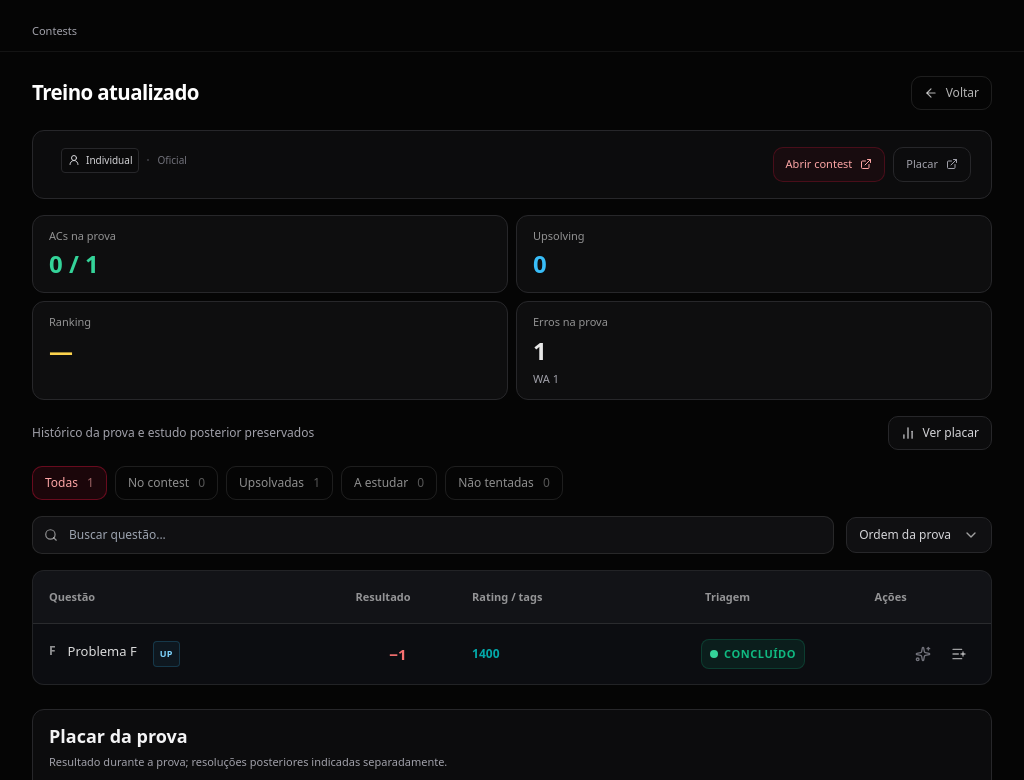
preserva o resultado da prova no mapa e na tabela depois do upsolving
The image size is (1024, 780).
Expected: the text "UP" is shown, [153, 641, 180, 667]
Expected: the column heading "Resultado" is shown, [340, 571, 456, 624]
What coordinates should you click on to do the following:
click the button "No contest 0"
I would click on:
 (167, 483)
Its box is [115, 466, 218, 500].
(page scrolled)
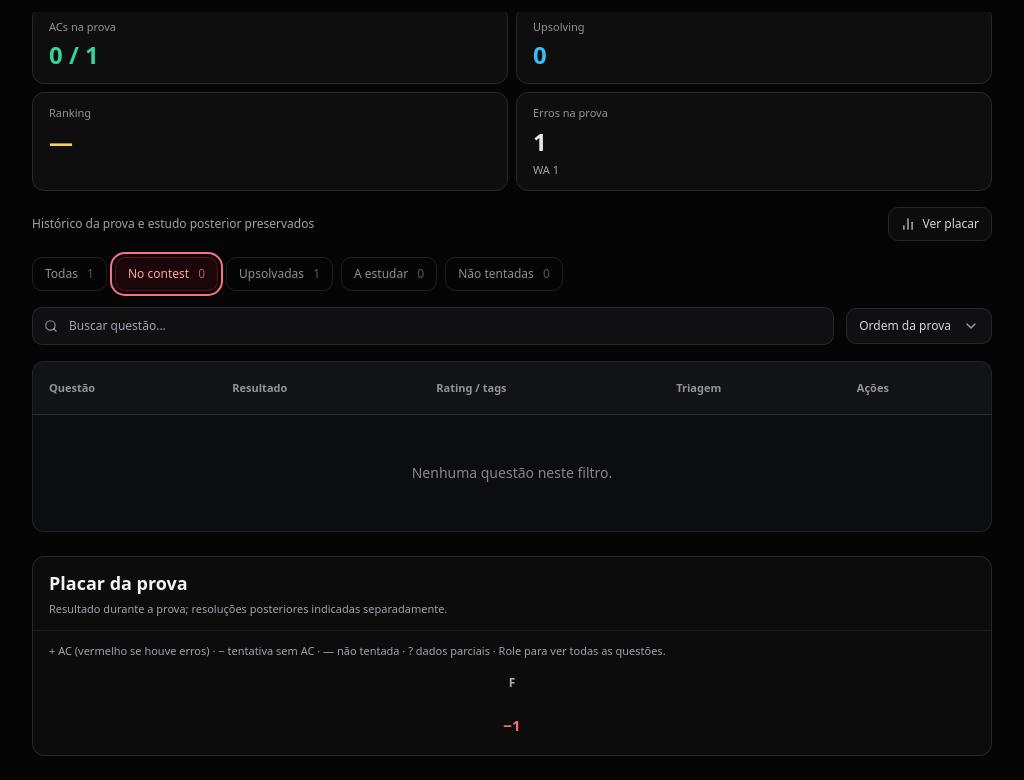
Now the text "Problema F" is gone
What coordinates should you click on to do the following:
click the button named "Ir para questão F"
I would click on:
 (512, 683)
Its box is [501, 671, 523, 695].
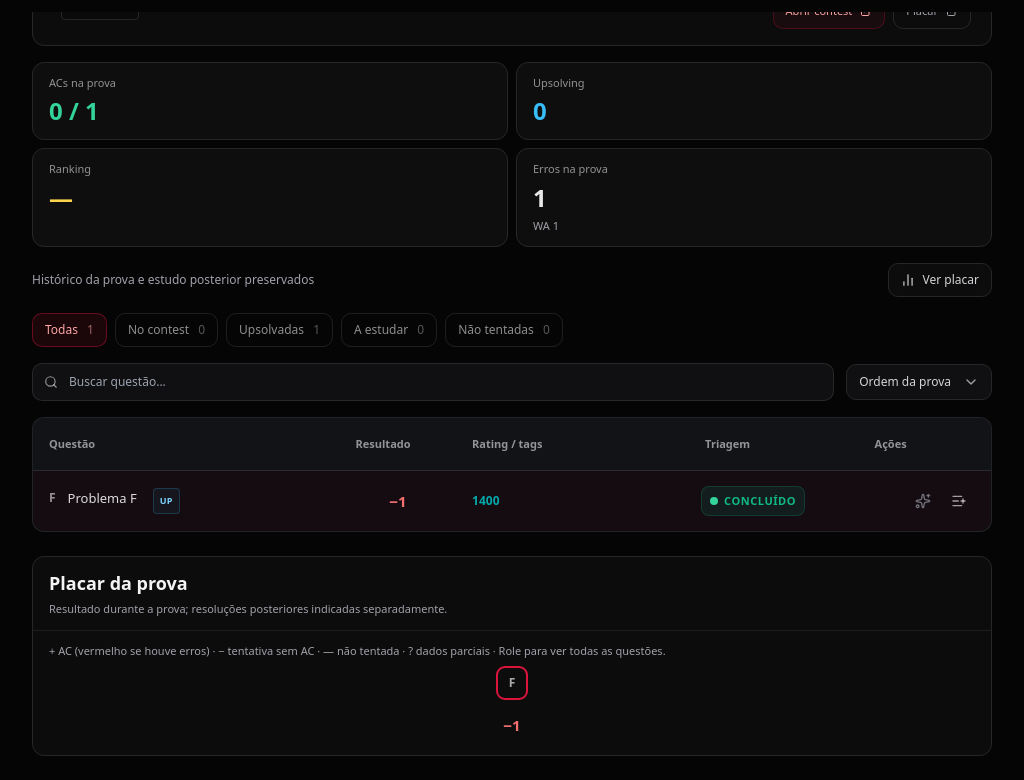
Now the text "Problema F" is shown, box [68, 488, 137, 508]
